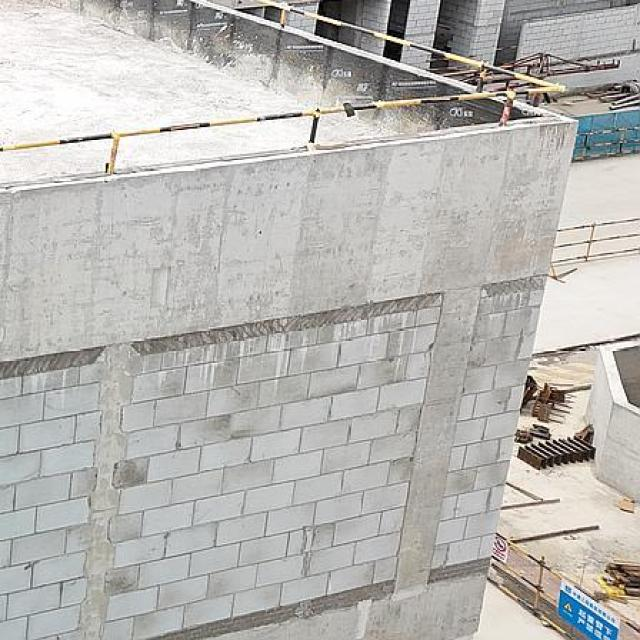edge_guardrail: (0, 0, 564, 178), (426, 54, 477, 70), (496, 45, 516, 51)
